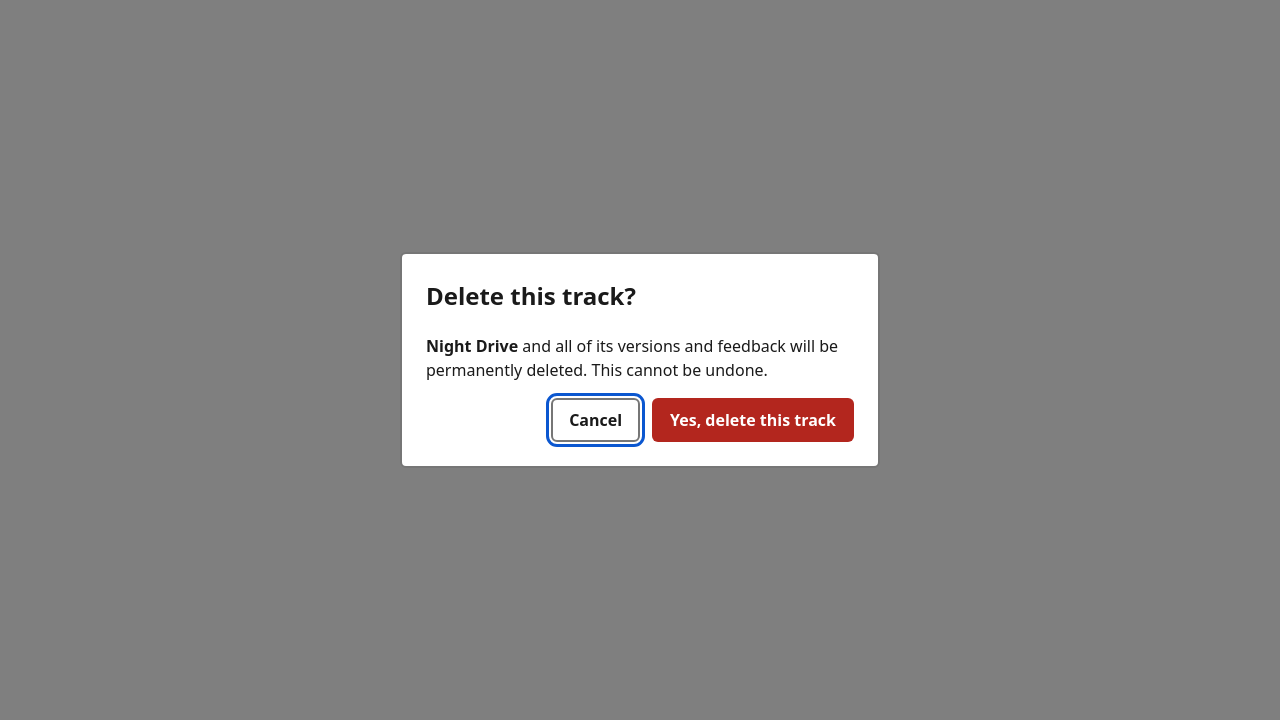
Test case: DeleteTrackDialog › shows a server failure as an alert, stays open and lets the person retry
Click the button "Yes, delete this track". click: {"x": 753, "y": 420}
box: [652,398,854,442]
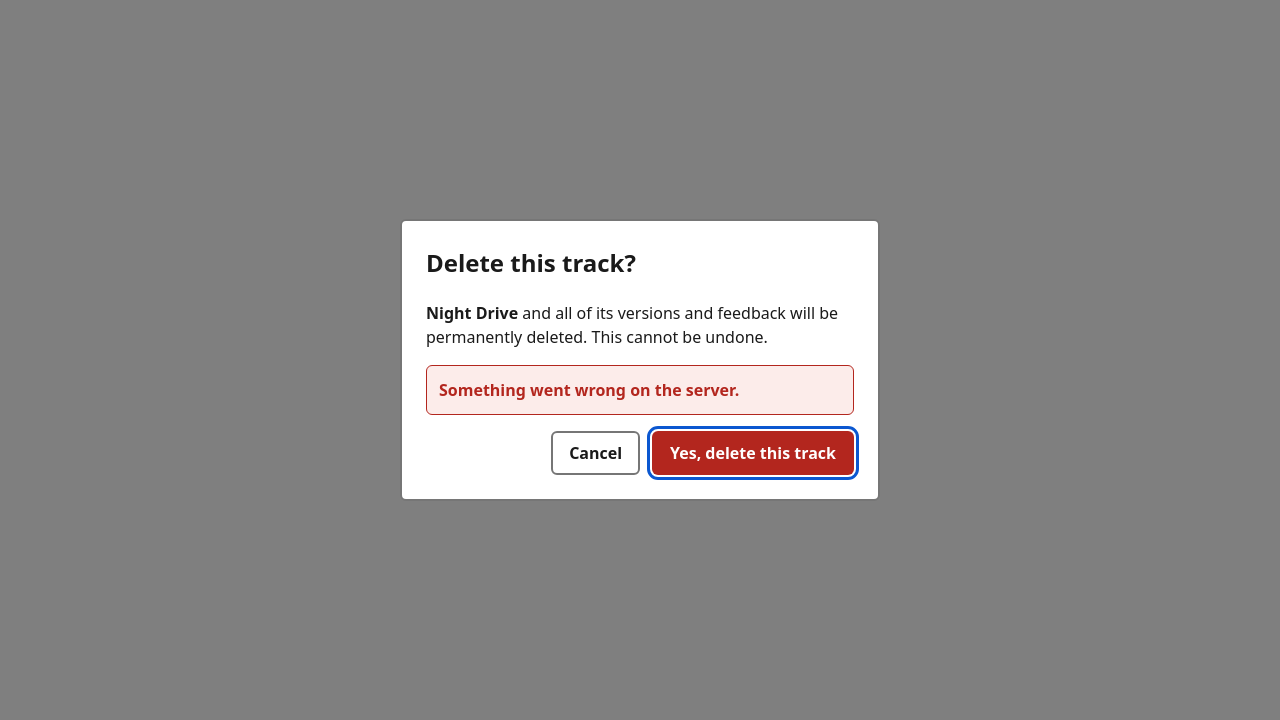
Expected: the button "Yes, delete this track" is enabled, [652,431,854,475]
Expected: the message reads "Something went wrong on the server.", [439,379,739,401]
